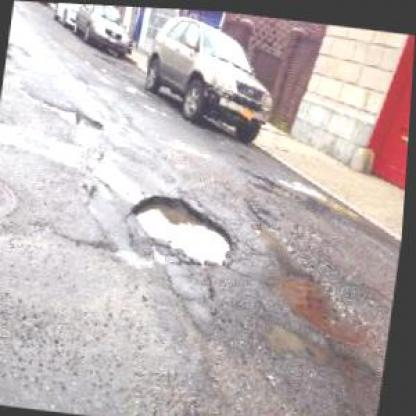pothole: (126, 187, 241, 268), (261, 314, 341, 364), (242, 162, 307, 197), (57, 105, 108, 132)
